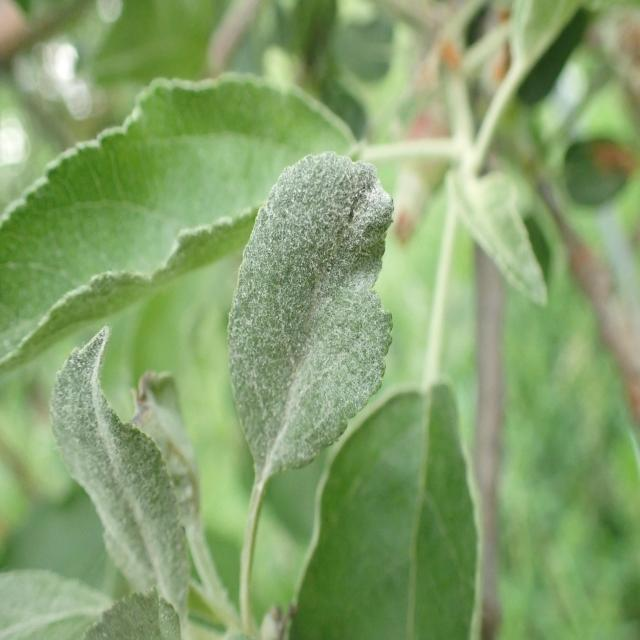Powdery_mildew: (233, 148, 397, 542), (54, 322, 207, 632), (0, 559, 196, 640)
